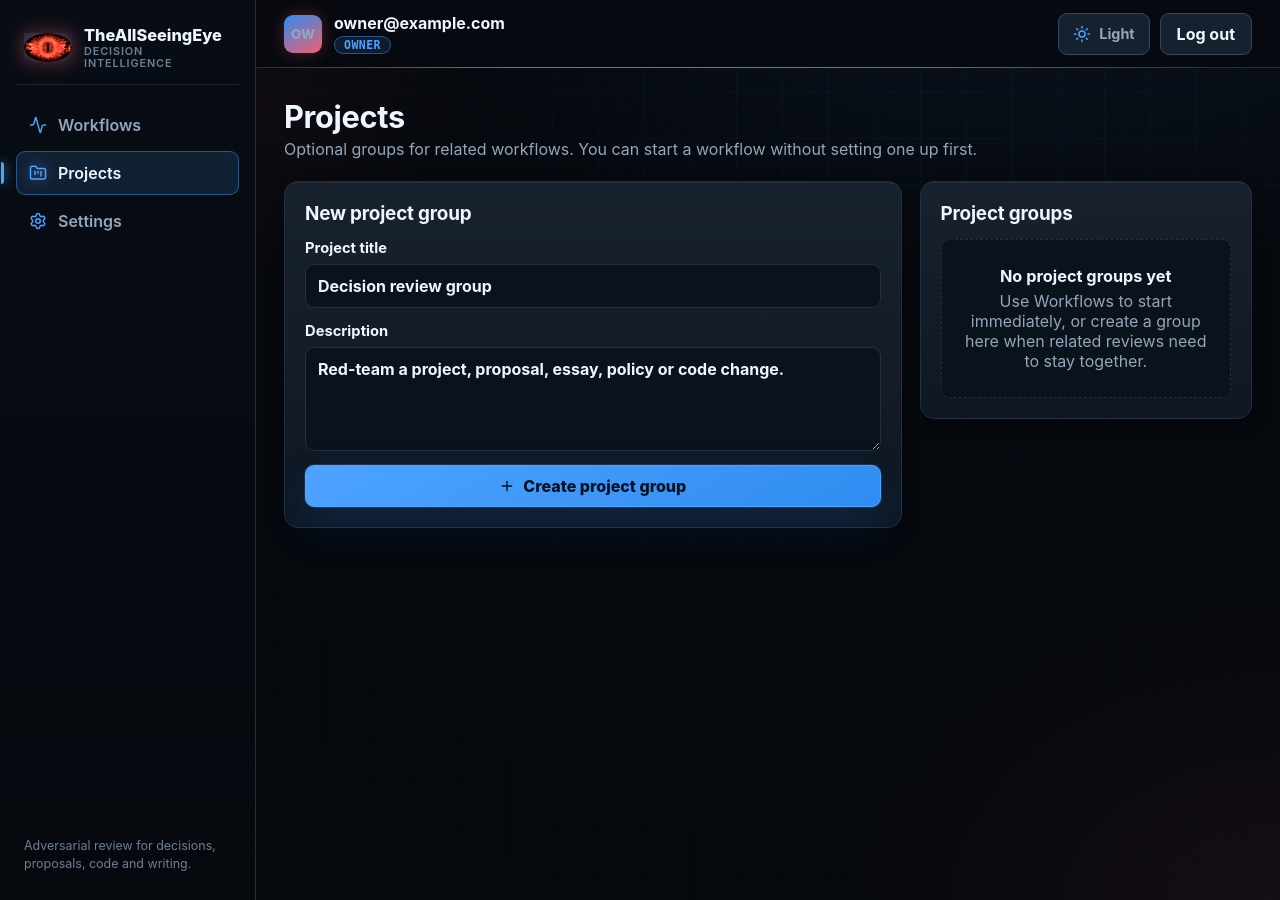
Test: RedTeamAgent app flows › creates, updates and deletes a project from the dashboard
Click the button "Create project group". click: (593, 486)
box: left=305, top=465, right=880, bottom=507
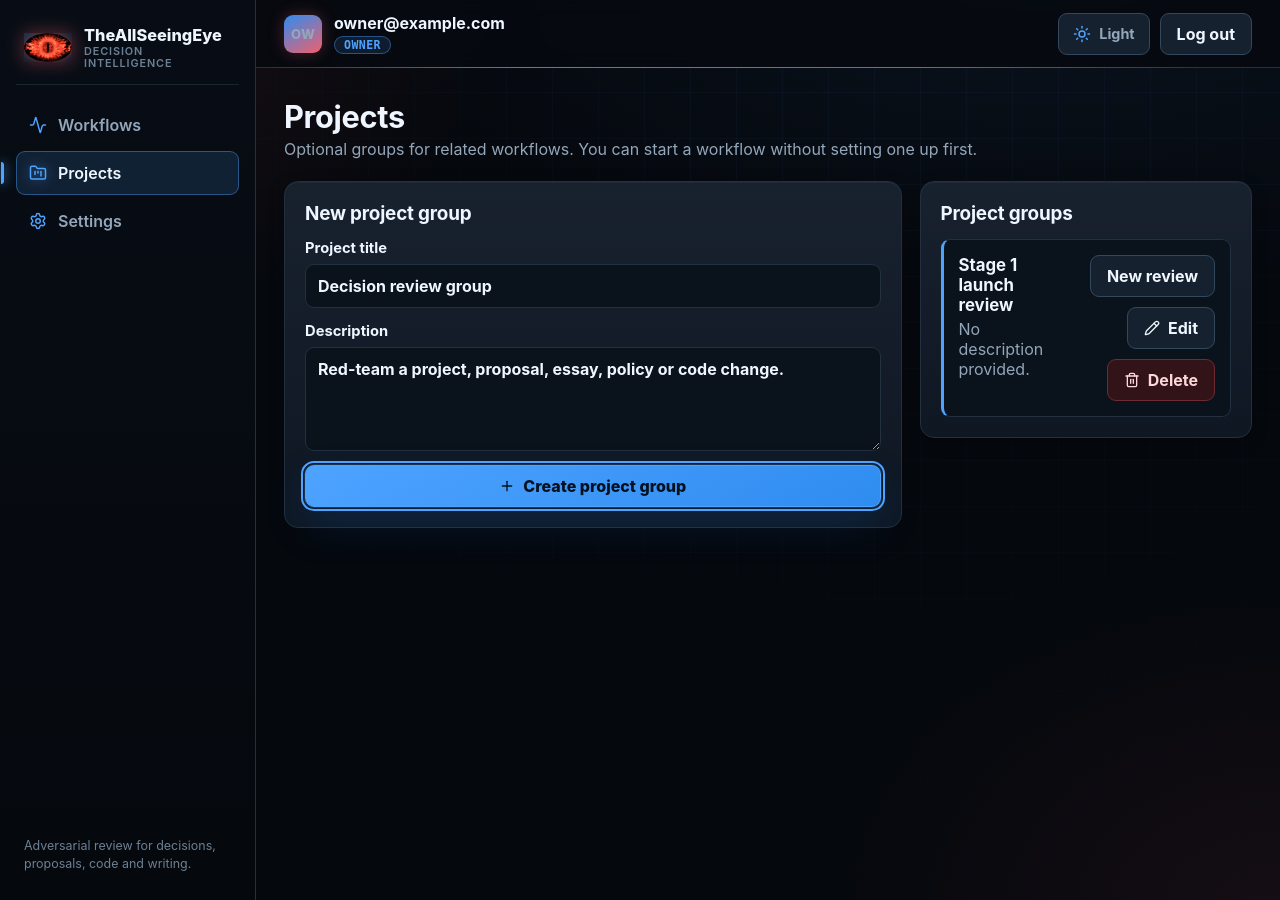
Now the text "Stage 1 launch review" is shown, box left=958, top=255, right=1017, bottom=315
Now the text "No description provided." is shown, box left=958, top=319, right=1044, bottom=379
Click the button "Edit". click: (1171, 328)
box: left=1127, top=307, right=1215, bottom=349
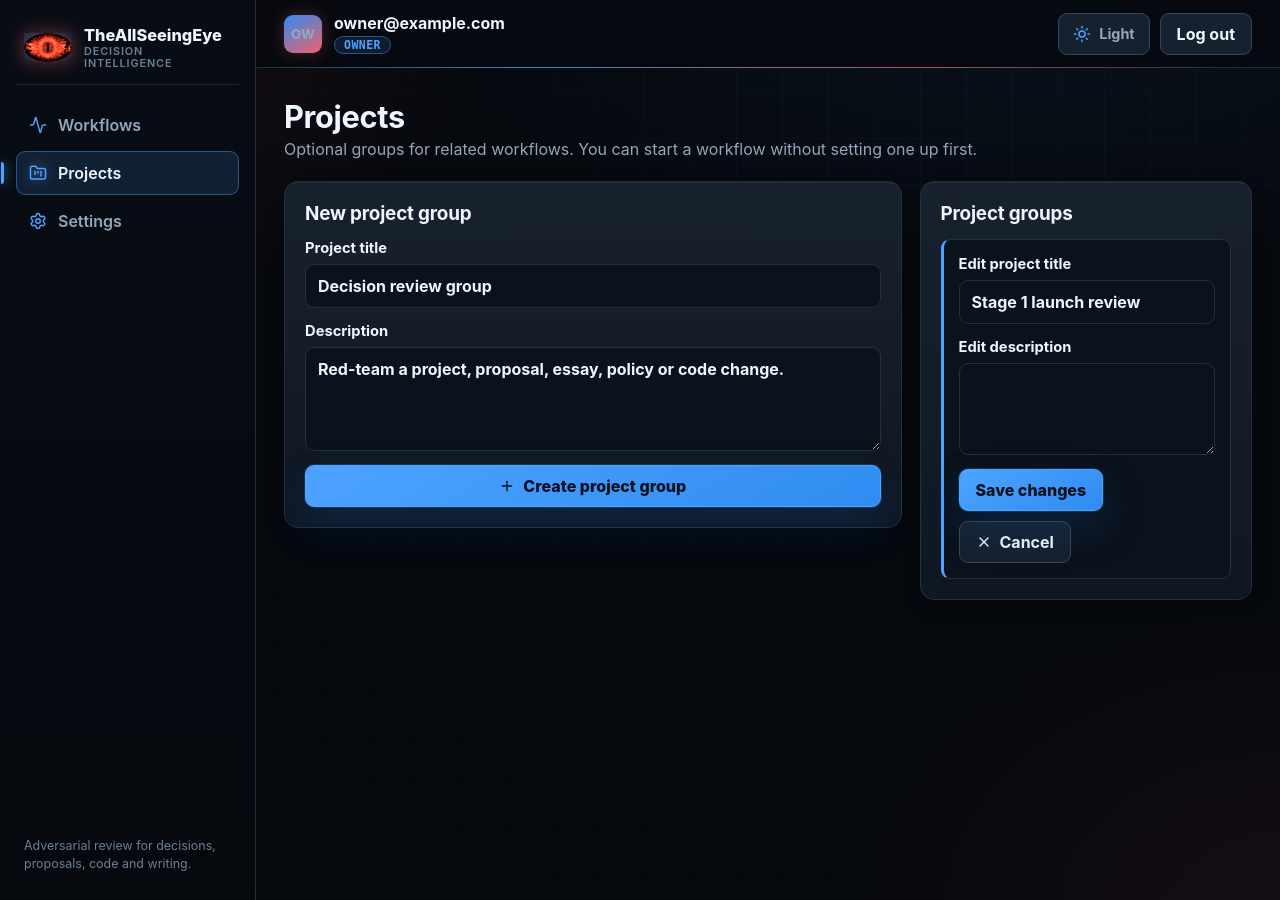
Replace the text in the field labelled "Edit project title" with "Updated decision review". click: (1087, 302)
box: left=958, top=280, right=1215, bottom=324
Type "Updated decision artefact scope" into the text box labelled "Edit description". click: (1087, 409)
box: left=958, top=363, right=1215, bottom=455
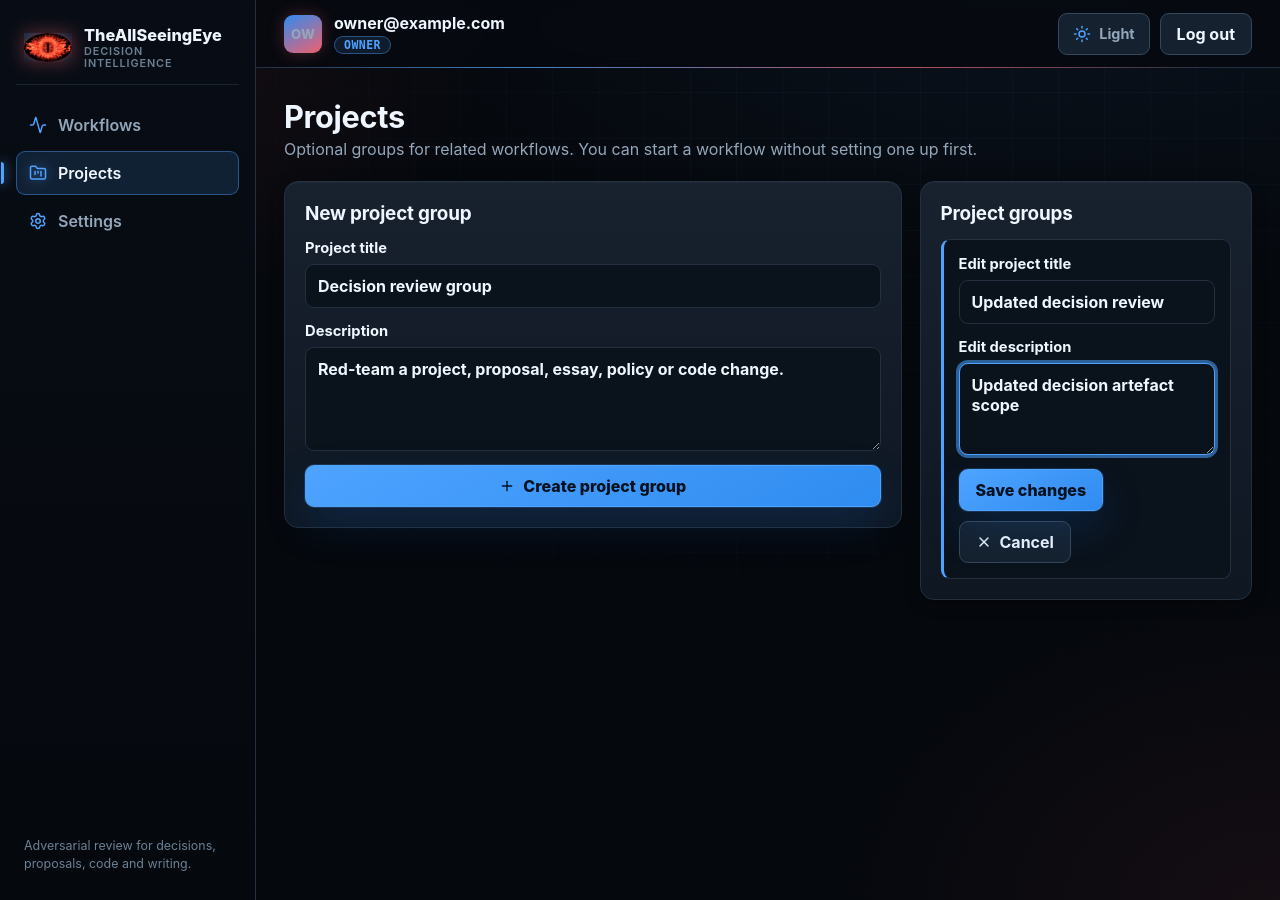
Click the button "Save changes". click: (1031, 490)
box: left=958, top=469, right=1103, bottom=511
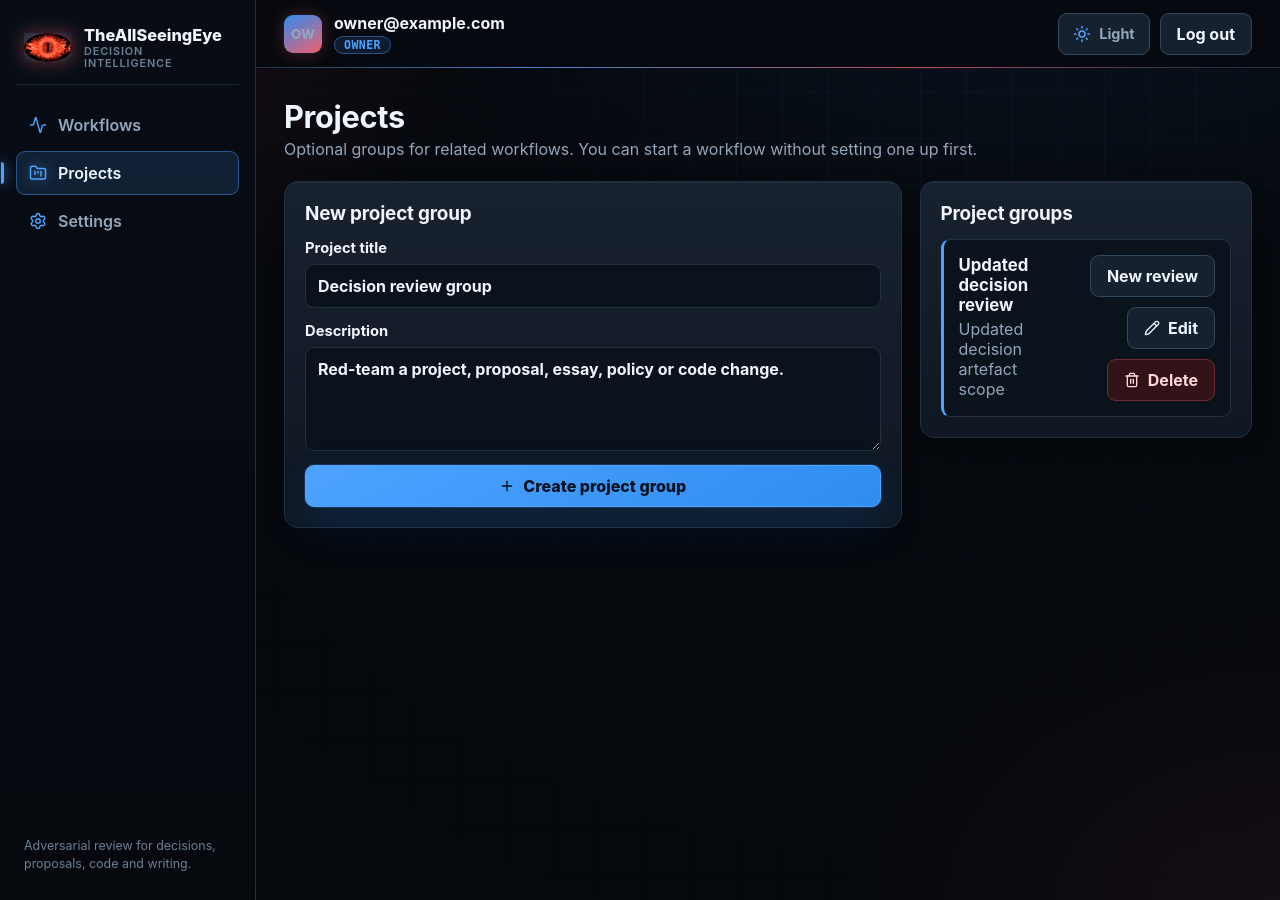
Now the text "Updated decision review" is shown, box left=958, top=255, right=1028, bottom=315
Now the text "Updated decision artefact scope" is shown, box left=958, top=319, right=1023, bottom=399
Click the button "Delete". click: (1161, 380)
box: left=1107, top=359, right=1215, bottom=401
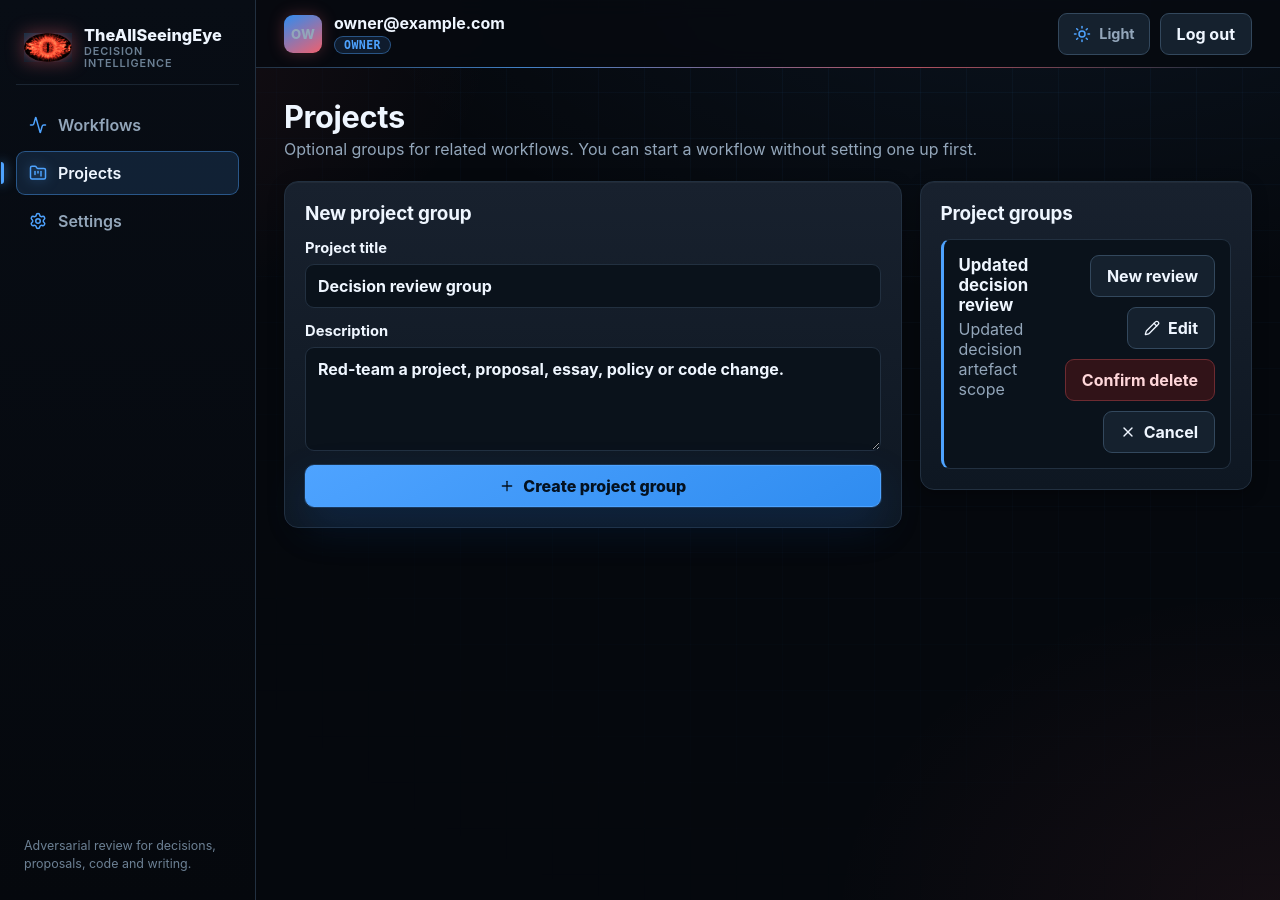
Click the button "Confirm delete". click: (1140, 380)
box: left=1065, top=359, right=1215, bottom=401
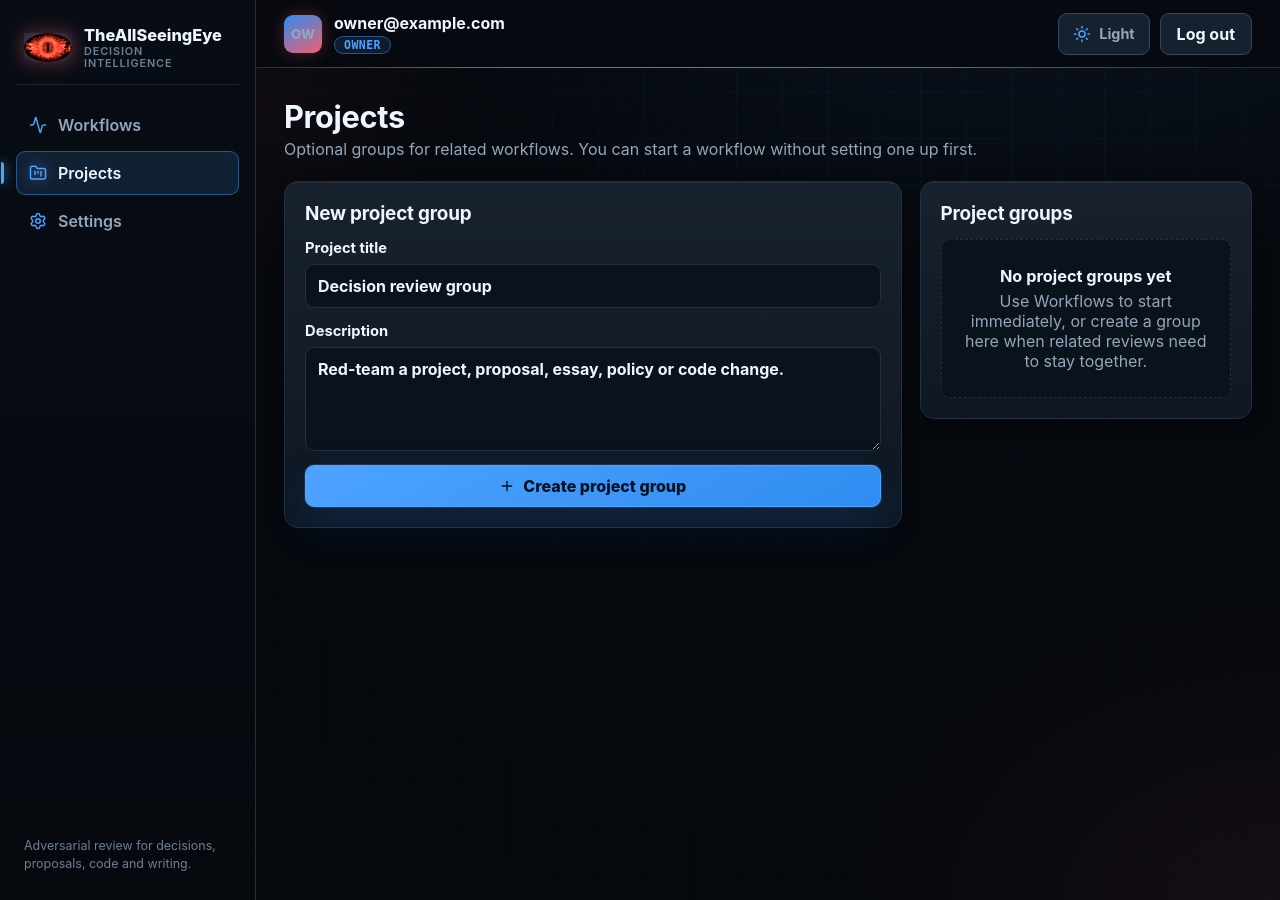
Now the text "Updated decision review" is gone
Now the text "No project groups yet" is shown, box left=1000, top=266, right=1172, bottom=286
